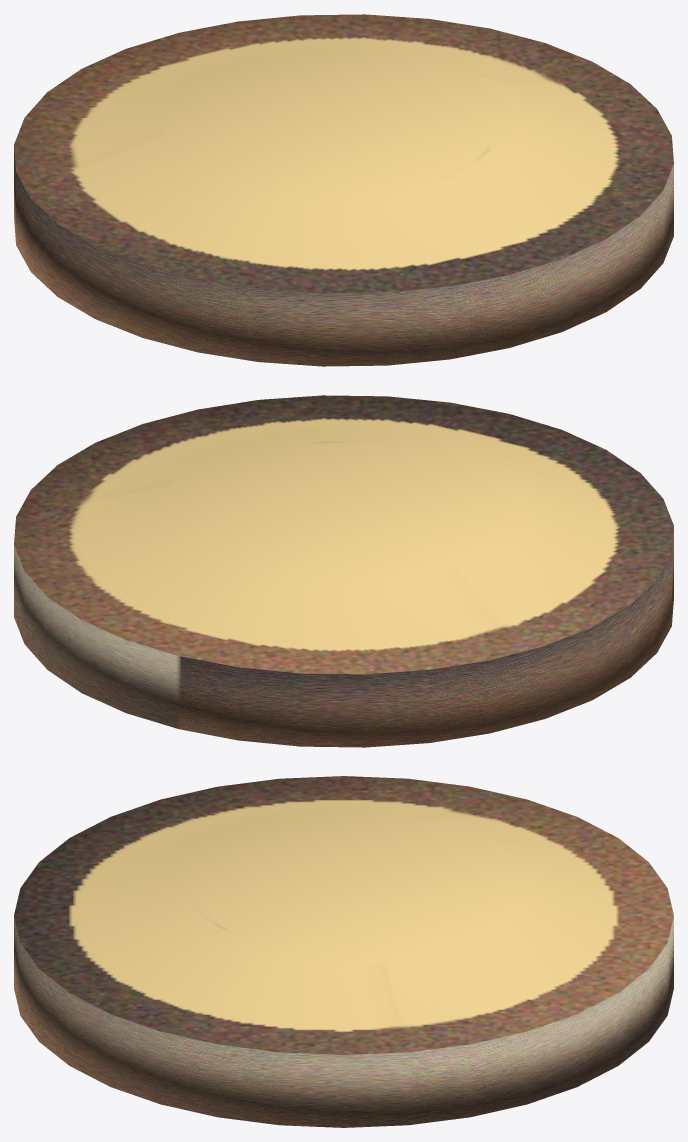
File: ceiling light.fbx
3 renders of one model, top to bottom at view 1: azimuth 30°, elevation 25°; view 2: azimuth 150°, elevation 25°; view 3: azimuth 270°, elevation 25°, orthographic.
Parts seen in each view (by area): view 1: Cylinder; view 2: Cylinder; view 3: Cylinder.
Part boxes in pixels (box(x1,y1,x2,y2)): Cylinder: box(14, 14, 673, 366); Cylinder: box(14, 395, 673, 747); Cylinder: box(14, 776, 673, 1127).
Size of the model in its own units: 200 by 33.67 by 200.
Materials: 1 (1 with a texture image).
